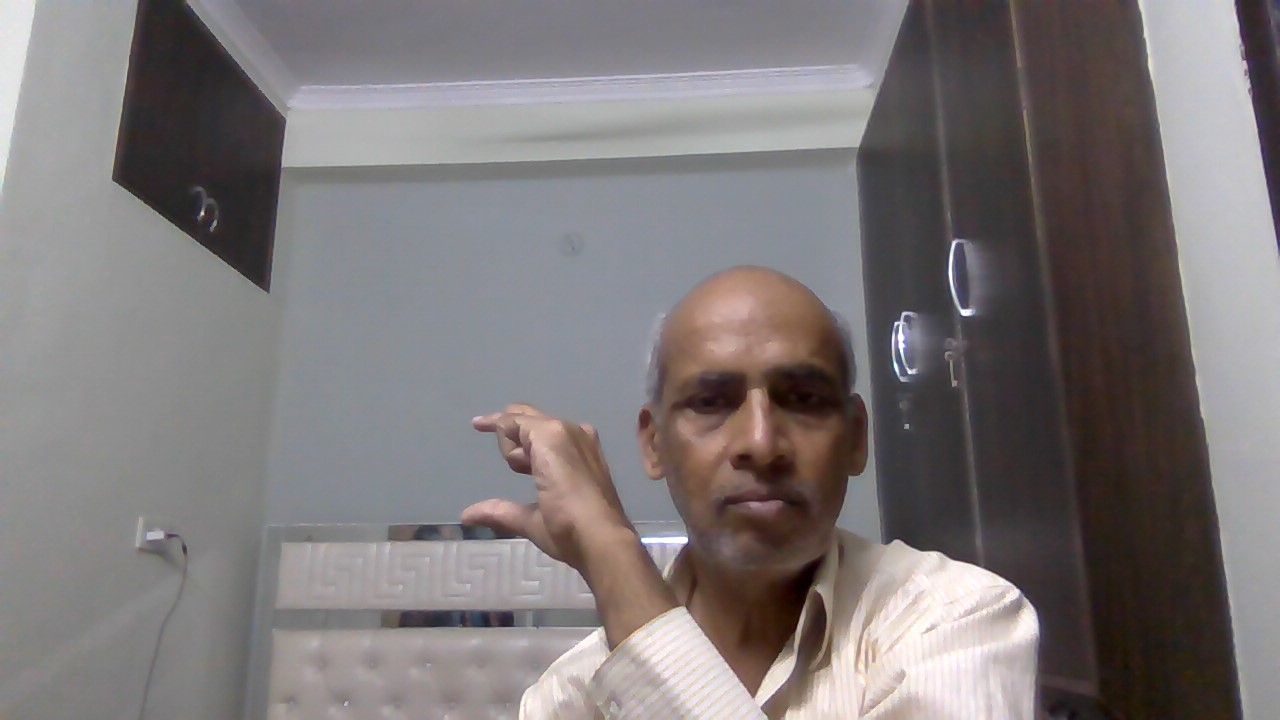Paste: (434, 385, 648, 573)
